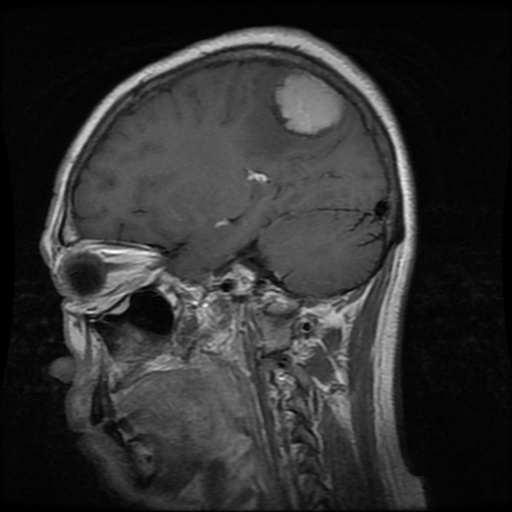meningioma: (275, 70, 344, 136)
